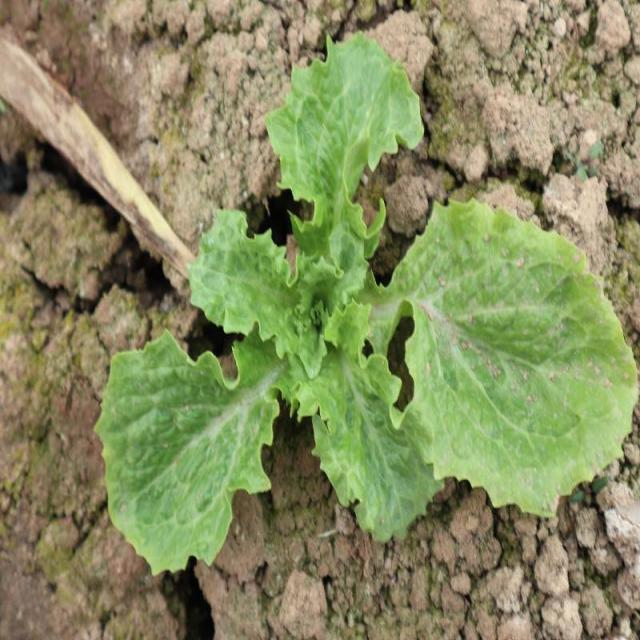crop: (94, 28, 640, 574)
